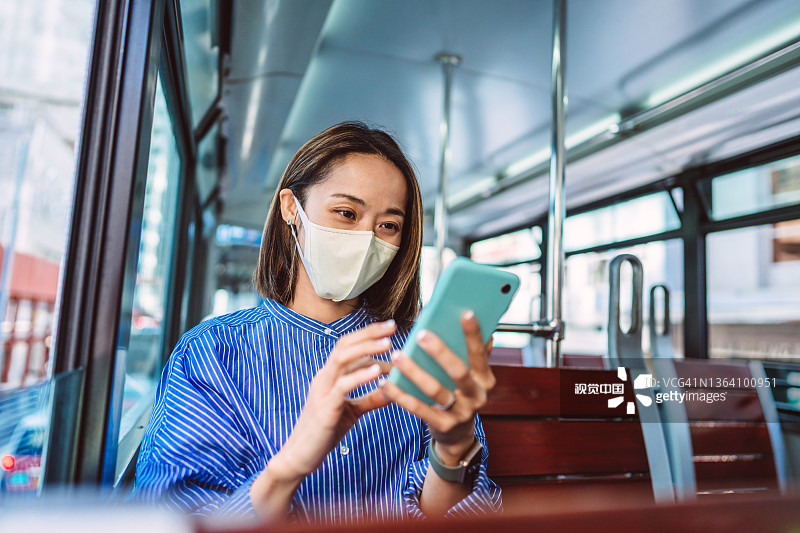reading: (259, 286, 510, 491)
